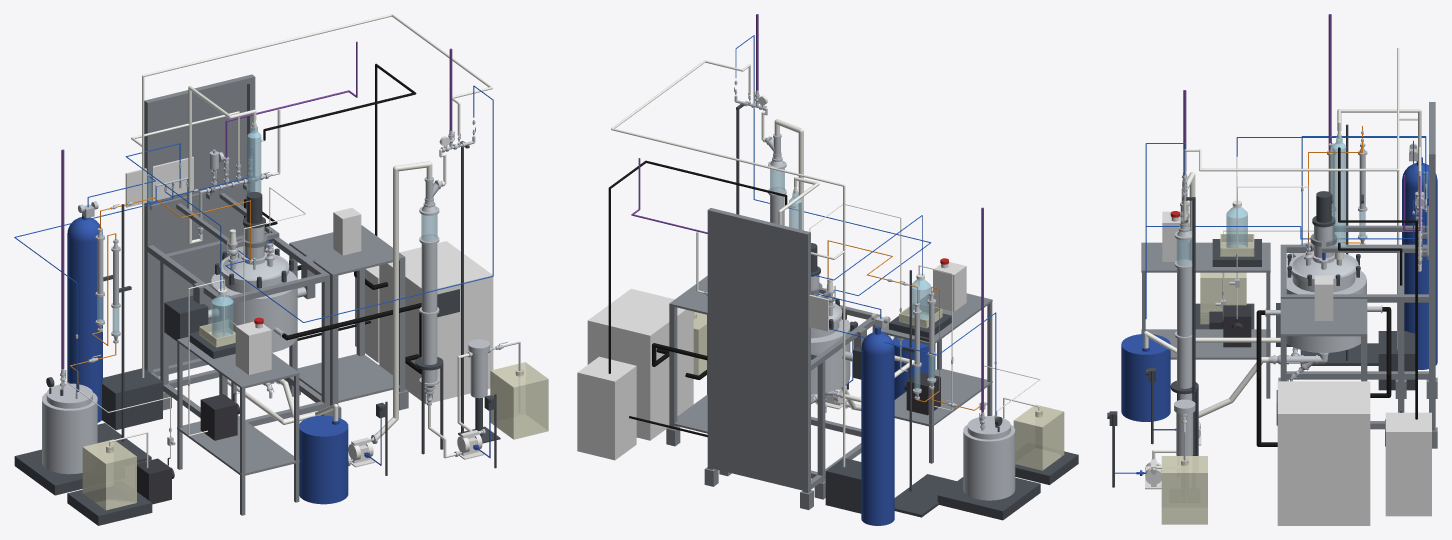
The model's file is tefkot-770-ustanovka.glb.
3 renders of one model, left to right at view 1: azimuth 30°, elevation 25°; view 2: azimuth 150°, elevation 25°; view 3: azimuth 270°, elevation 25°, orthographic. The views are drawn at different scales.
Parts seen in each view (by area): view 1: Рама-стойка реактора Wiggens, Чиллер рубашки реактора (TC-1), Тележка блока управления, Тележка дозирования: MeSiCl₃ на весах, PDMS-OH рядом, насос , Баллон аргона 40 л (AR-1), Генератор метиламина — бак Atmaler БК-40 (G-1), Бочка растворителя 30 л (петролейный эфир), Канистра продукта 20 л, Канистра 38% водного метиламина (V-1), Насос вакуумный мембранный химический (VP-1), Рубашка реактора (теплоноситель), Нутч F-1 — сборка K119 (4″): переходы K119 → 64 → 50,5 → K25 (+28 smaller); view 2: Рама-стойка реактора Wiggens, Чиллер рубашки реактора (TC-1), Баллон аргона 40 л (AR-1), Чиллер конденсатора E-1 (TC-2), Тележка дозирования: MeSiCl₃ на весах, PDMS-OH рядом, насос , Генератор метиламина — бак Atmaler БК-40 (G-1), Тележка блока управления, Канистра 38% водного метиламина (V-1), Штатив колонн осушки, Весы 60 кг под генератором (W-2), Насос вакуумный мембранный химический (VP-1), Рубашка реактора (теплоноситель) (+14 smaller); view 3: Чиллер рубашки реактора (TC-1), Рама-стойка реактора Wiggens, Чиллер конденсатора E-1 (TC-2), Тележка дозирования: MeSiCl₃ на весах, PDMS-OH рядом, насос , Баллон аргона 40 л (AR-1), Бочка растворителя 30 л (петролейный эфир), Тележка блока управления, Канистра продукта 20 л, Нутч F-1 — сборка K119 (4″): переходы K119 → 64 → 50,5 → K25, Рубашка реактора (теплоноситель), Канистра 38% водного метиламина (V-1), Насос вакуумный мембранный химический (VP-1) (+31 smaller).
Boxes of the visible parts, x1,y1,x2,y2 form: Рама-стойка реактора Wiggens: (144,74,333,426); Чиллер рубашки реактора (TC-1): (379,241,493,404); Тележка блока управления: (288,225,408,418); Тележка дозирования: MeSiCl₃ на весах, PDMS-OH рядом, насос : (177,337,299,515); Баллон аргона 40 л (AR-1): (67,215,102,422); Генератор метиламина — бак Atmaler БК-40 (G-1): (42,383,97,474); Бочка растворителя 30 л (петролейный эфир): (299,415,348,504); Канистра продукта 20 л: (490,362,548,439); Канистра 38% водного метиламина (V-1): (82,439,136,510); Насос вакуумный мембранный химический (VP-1): (102,368,162,429); Рубашка реактора (теплоноситель): (211,270,297,352); Нутч F-1 — сборка K119 (4″): переходы K119 → 64 → 50,5 → K25: (419,234,439,405); Рама-стойка реактора Wiggens: (704,208,880,509); Чиллер рубашки реактора (TC-1): (587,288,693,440); Баллон аргона 40 л (AR-1): (861,326,894,525); Чиллер конденсатора E-1 (TC-2): (577,356,636,460); Тележка дозирования: MeSiCl₃ на весах, PDMS-OH рядом, насос : (881,291,992,463); Генератор метиламина — бак Atmaler БК-40 (G-1): (963,416,1015,500); Тележка блока управления: (666,276,707,446); Канистра 38% водного метиламина (V-1): (1013,404,1064,470); Штатив колонн осушки: (894,270,956,517); Весы 60 кг под генератором (W-2): (937,477,1040,520); Насос вакуумный мембранный химический (VP-1): (825,458,861,513); Рубашка реактора (теплоноситель): (811,319,850,394); Чиллер рубашки реактора (TC-1): (1277,381,1370,525); Рама-стойка реактора Wiggens: (1278,102,1437,448); Чиллер конденсатора E-1 (TC-2): (1385,412,1431,516); Тележка дозирования: MeSiCl₃ на весах, PDMS-OH рядом, насос : (1141,242,1270,398); Баллон аргона 40 л (AR-1): (1402,157,1437,369); Бочка растворителя 30 л (петролейный эфир): (1121,334,1170,421); Тележка блока управления: (1280,299,1367,381); Канистра продукта 20 л: (1161,456,1207,524); Нутч F-1 — сборка K119 (4″): переходы K119 → 64 → 50,5 → K25: (1174,259,1192,400); Рубашка реактора (теплоноситель): (1286,270,1366,352); Канистра 38% водного метиламина (V-1): (1200,272,1246,324); Насос вакуумный мембранный химический (VP-1): (1378,331,1415,390).
Bounding box in the file's own units: 3260 × 2805 × 2135.
